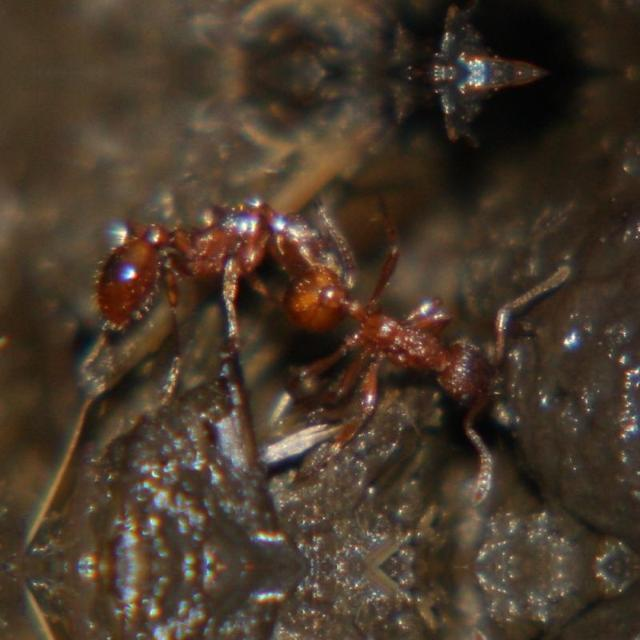Myrmica: (275, 250, 547, 428), (95, 195, 361, 317)
